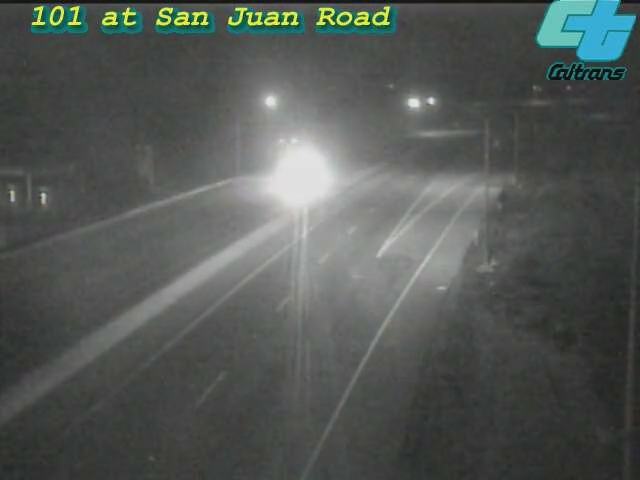vehicle: (255, 136, 335, 216)
